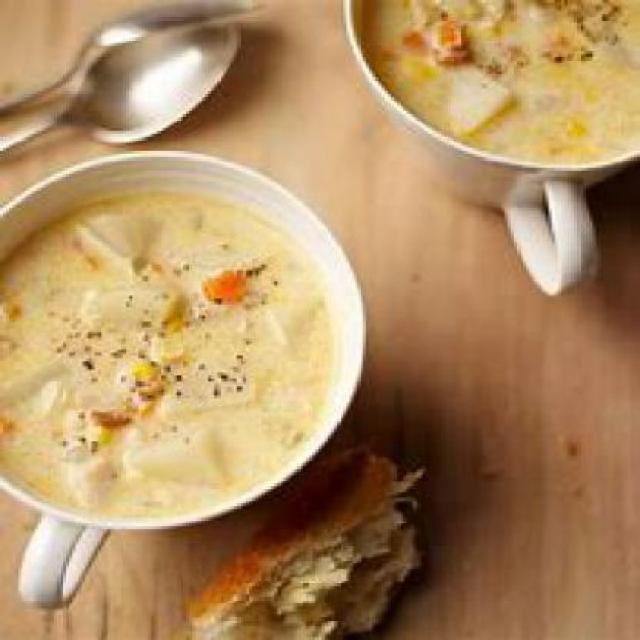club sandwich: (183, 452, 451, 637)
